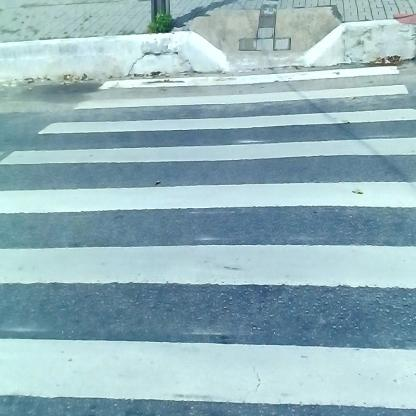crosswalk: (16, 95, 416, 416)
sidewalk: (3, 13, 413, 81)
